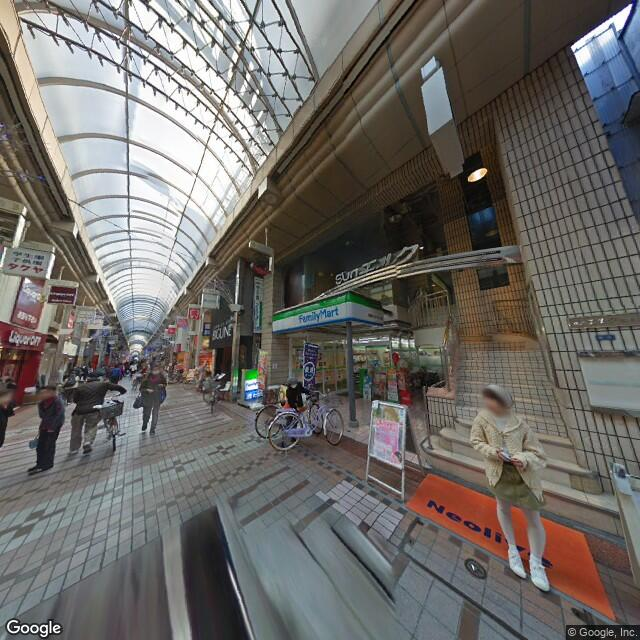family_mart: (272, 288, 386, 336), (271, 290, 353, 333), (346, 291, 385, 329)
